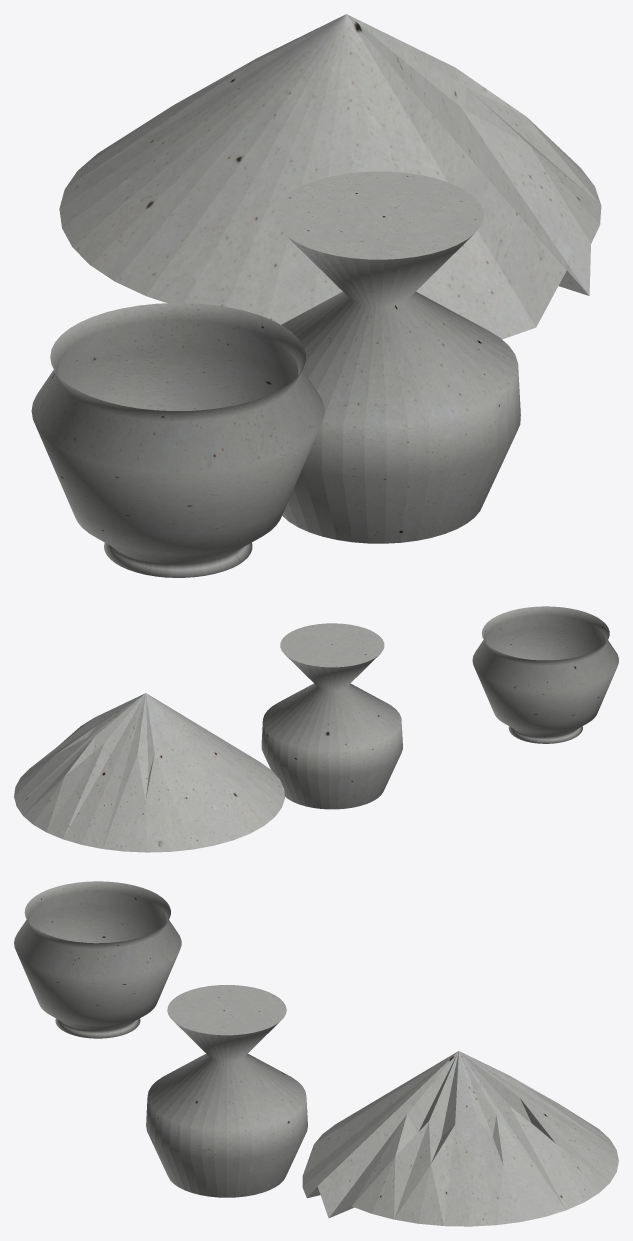
The model's file is vaze.obj.
3 renders of one model, top to bottom at view 1: azimuth 30°, elevation 25°; view 2: azimuth 150°, elevation 25°; view 3: azimuth 270°, elevation 25°, orthographic. The views are drawn at different scales.
Parts seen in each view (by area): view 1: Cone, Cylinder, Cylinder.001; view 2: Cone, Cylinder, Cylinder.001; view 3: Cone, Cylinder, Cylinder.001.
Part boxes in pixels (x1=…): Cone: x1=59, y1=14, x2=601, y2=339; Cylinder: x1=275, y1=171, x2=520, y2=543; Cylinder.001: x1=31, y1=303, x2=324, y2=577; Cone: x1=14, y1=693, x2=284, y2=852; Cylinder: x1=261, y1=623, x2=402, y2=809; Cylinder.001: x1=472, y1=606, x2=618, y2=743; Cone: x1=302, y1=1051, x2=618, y2=1226; Cylinder: x1=146, y1=985, x2=307, y2=1197; Cylinder.001: x1=14, y1=881, x2=181, y2=1038.
Size of the model in its own units: 9.22 by 3.19 by 10.13.
